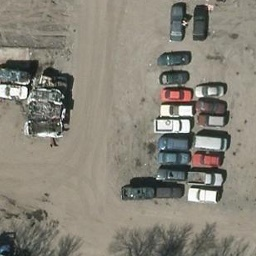car: (153, 117, 191, 134), (154, 50, 192, 67), (192, 6, 211, 39), (167, 4, 186, 37), (158, 67, 189, 85), (119, 184, 152, 200), (193, 134, 227, 149), (191, 150, 225, 165), (189, 170, 223, 185), (1, 83, 29, 100), (187, 188, 220, 201), (154, 169, 187, 182), (155, 151, 188, 164), (159, 87, 191, 100), (160, 104, 192, 117), (153, 137, 190, 148), (196, 83, 224, 97), (195, 99, 224, 112), (196, 114, 225, 127)
